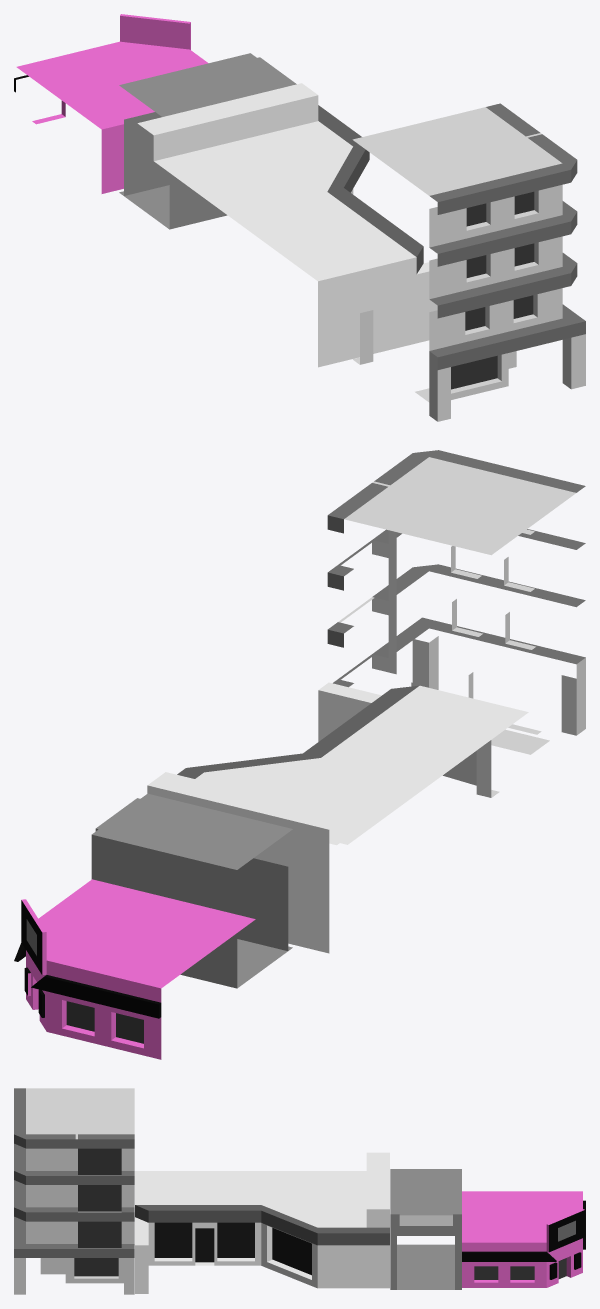
Rendered from Cuadra-1-Izquierda.glb.
3 renders of one model, top to bottom at view 1: azimuth 30°, elevation 25°; view 2: azimuth 150°, elevation 25°; view 3: azimuth 270°, elevation 25°, orthographic. The views are drawn at different scales.
Parts seen in each view (by area): view 1: Plane, Plane2, Plane4, Plane3; view 2: Plane2, Plane, Plane4, Plane3; view 3: Plane2, Plane, Plane4, Plane3.
Part boxes in pixels (<box>): Plane: <box>352,103,585,421</box>; Plane2: <box>137,83,437,367</box>; Plane4: <box>14,14,208,193</box>; Plane3: <box>119,53,296,229</box>; Plane2: <box>147,682,528,953</box>; Plane: <box>327,450,585,797</box>; Plane4: <box>14,879,255,1059</box>; Plane3: <box>91,793,292,988</box>; Plane2: <box>135,1152,389,1293</box>; Plane: <box>14,1088,134,1294</box>; Plane4: <box>462,1191,585,1287</box>; Plane3: <box>390,1169,461,1289</box>.
Bounding box in the file's own units: 22.15 × 25.78 × 85.22.
